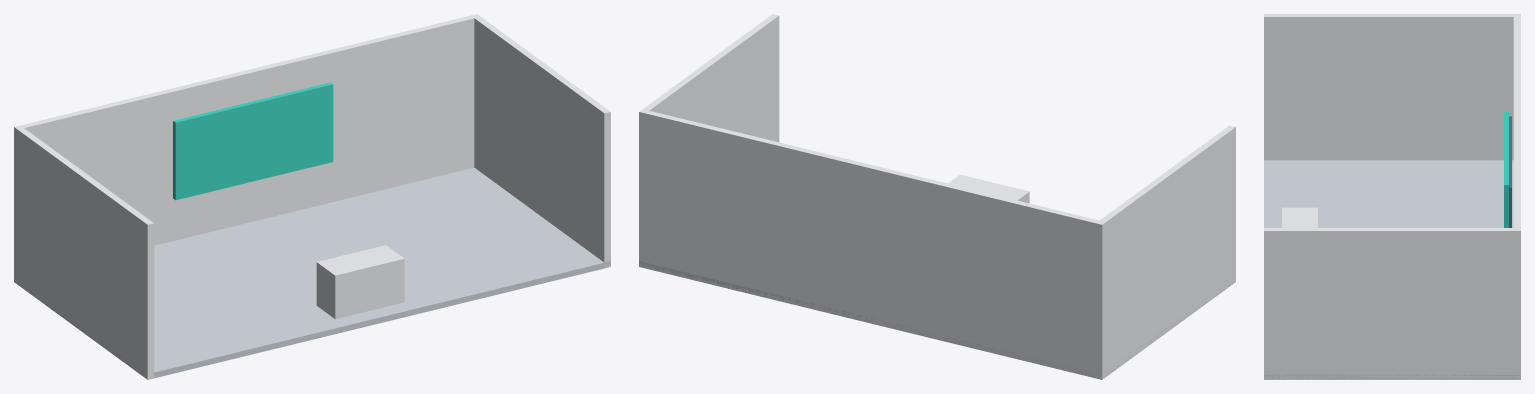
3 views of the same model, side by side, from view 1: azimuth 30°, elevation 25°; view 2: azimuth 150°, elevation 25°; view 3: azimuth 270°, elevation 25° (orthographic). The views are drawn at different scales.
Visible parts, largest first — view 1: Exhibition Booth Concept; view 2: Exhibition Booth Concept; view 3: Exhibition Booth Concept.
Boxes of the visible parts, x1=… form: Exhibition Booth Concept: x1=14, y1=14, x2=610, y2=379; Exhibition Booth Concept: x1=639, y1=14, x2=1235, y2=379; Exhibition Booth Concept: x1=1264, y1=14, x2=1520, y2=379.
Bounding box in the file's own units: 10 × 3.2 × 5.
